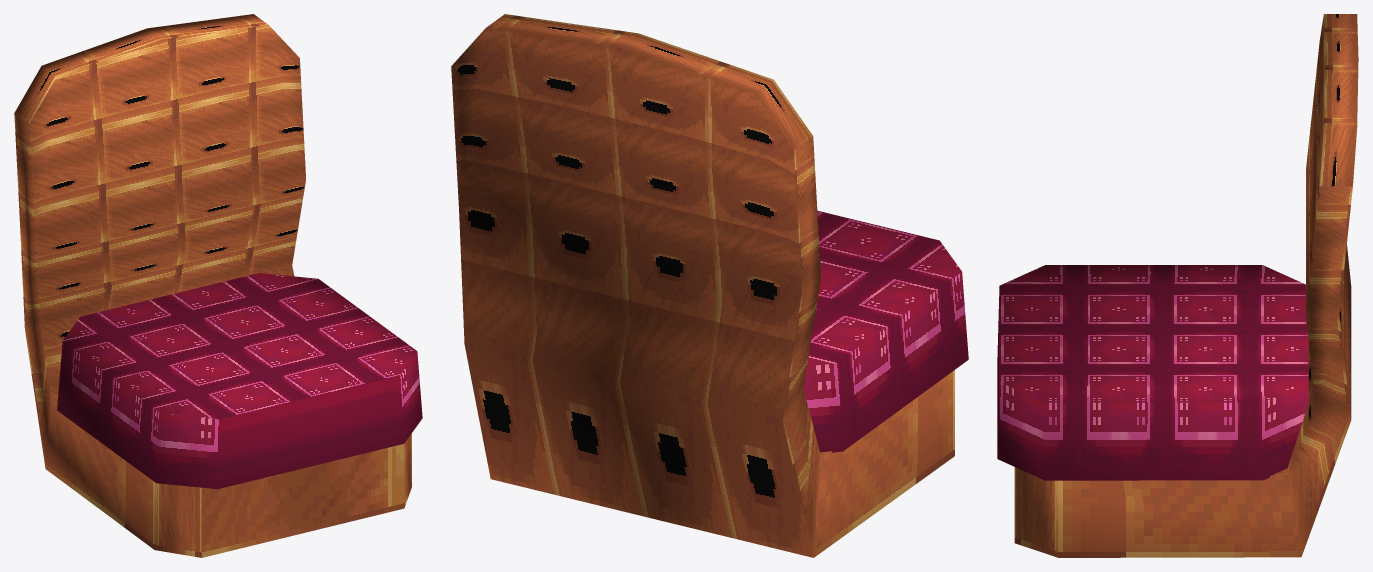
Rendered from 3031IMRL01_02.gltf.
The picture shows the model from 3 angles, left to right: view 1: azimuth 30°, elevation 25°; view 2: azimuth 150°, elevation 25°; view 3: azimuth 270°, elevation 25°; orthographic projection. The views are drawn at different scales.
Parts seen in each view (by area): view 1: 3031IMRL01_02; view 2: 3031IMRL01_02; view 3: 3031IMRL01_02.
Part boxes in pixels (bbox=[...]): 3031IMRL01_02: bbox=[14, 14, 422, 557]; 3031IMRL01_02: bbox=[451, 14, 968, 557]; 3031IMRL01_02: bbox=[997, 14, 1358, 557].
Bounding box in the file's own units: 0.8696 × 1.2 × 0.9133.
3 materials, 3 textured.
